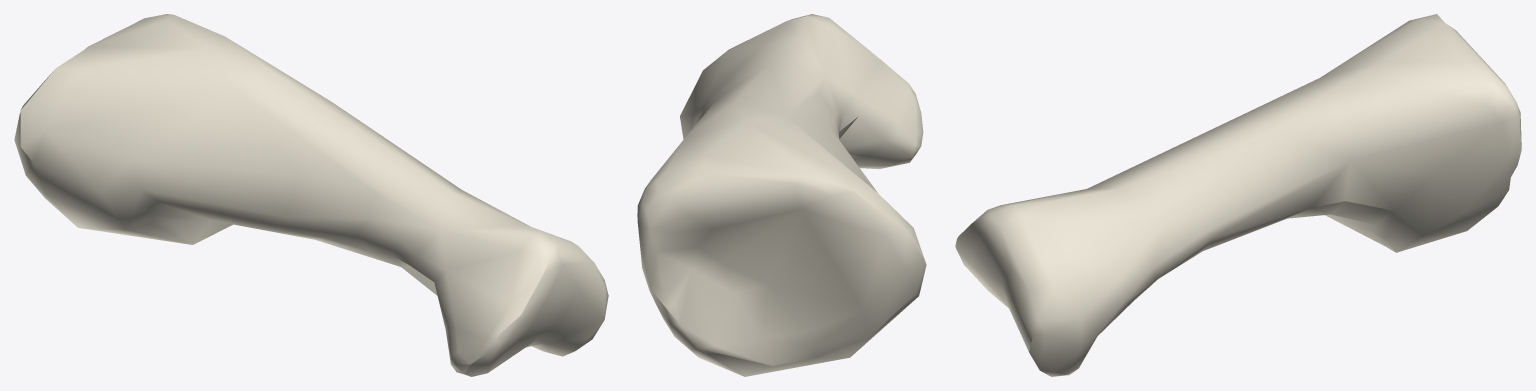
The model's file is fma32634_fj6415.glb.
3 renders of one model, left to right at view 1: azimuth 30°, elevation 25°; view 2: azimuth 150°, elevation 25°; view 3: azimuth 270°, elevation 25°, orthographic. The views are drawn at different scales.
Visible parts, largest first — view 1: FMA32634_FJ6415; view 2: FMA32634_FJ6415; view 3: FMA32634_FJ6415.
Part boxes in pixels (box(x1,y1,x2,y2)): FMA32634_FJ6415: box(14, 14, 608, 376); FMA32634_FJ6415: box(637, 14, 926, 376); FMA32634_FJ6415: box(955, 14, 1521, 376).
Size of the model in its own units: 0.0222 by 0.0123 by 0.0282.
